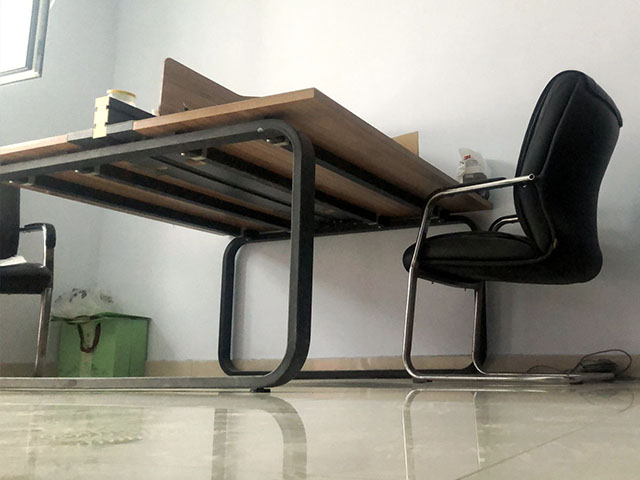stool: (399, 68, 625, 387), (1, 179, 57, 379)
table: (1, 55, 497, 394)
wire: (524, 345, 640, 380)
